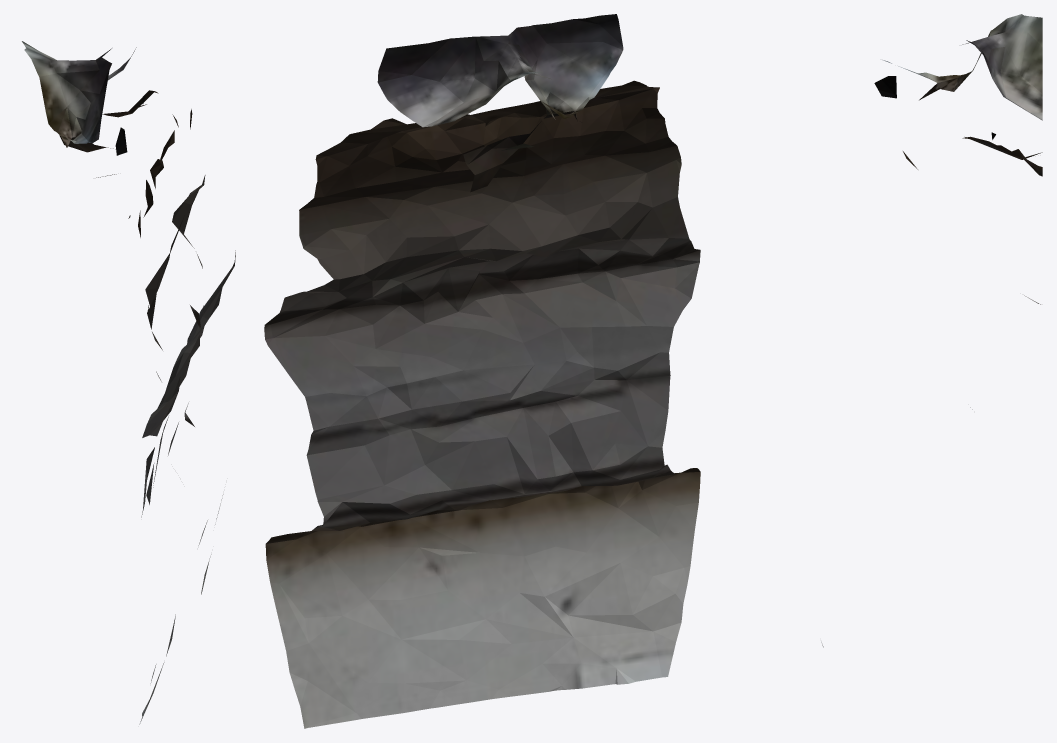
3 views of the same model, side by side, from view 1: azimuth 30°, elevation 25°; view 2: azimuth 150°, elevation 25°; view 3: azimuth 270°, elevation 25° (orthographic). The views are drawn at different scales.
Size of the model in its own units: 0.3247 by 0.8374 by 0.3832.
2 materials, 2 textured.
